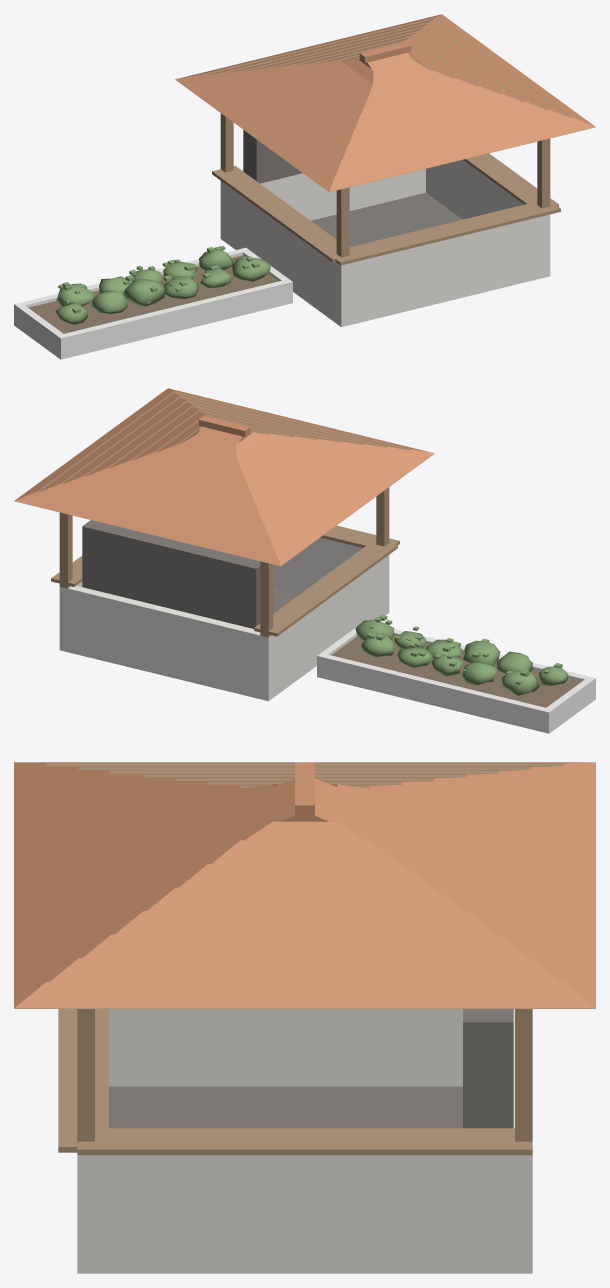
File: calcadao-quiosque-e-jardineira.glb
3 renders of one model, top to bottom at view 1: azimuth 30°, elevation 25°; view 2: azimuth 150°, elevation 25°; view 3: azimuth 270°, elevation 25°, orthographic. The views are drawn at different scales.
Visible parts, largest first — view 1: dn_calcadao_quiosque, dn_calcadao_jardineira; view 2: dn_calcadao_quiosque, dn_calcadao_jardineira; view 3: dn_calcadao_quiosque.
Part boxes in pixels (<box>): dn_calcadao_quiosque: <box>175,14,595,327</box>; dn_calcadao_jardineira: <box>14,246,292,359</box>; dn_calcadao_quiosque: <box>14,388,434,701</box>; dn_calcadao_jardineira: <box>317,615,595,733</box>; dn_calcadao_quiosque: <box>14,762,595,1273</box>.
Bounding box in the file's own units: 8.3 × 3.43 × 4.6.
